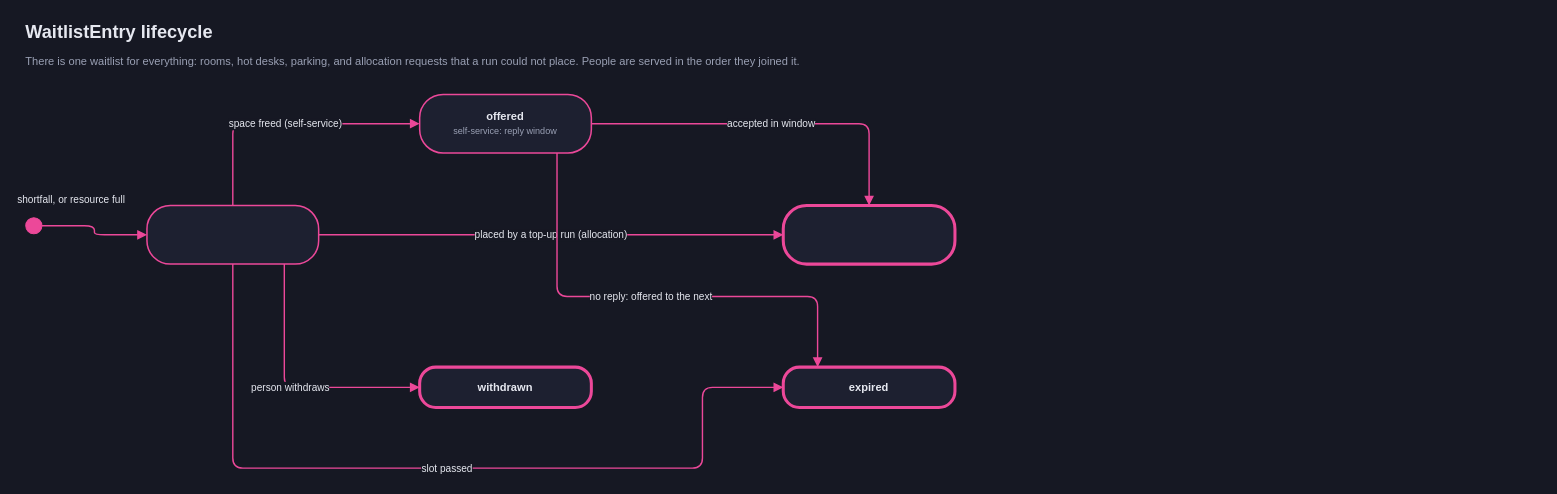
This 1557x494 diagram has some shape labels left out. Here are the shapes that lost their labels. From the top down, the centre of each, then its label:
point 232,234: waiting position by requested_at
point 868,234: fulfilled becomes a booking
